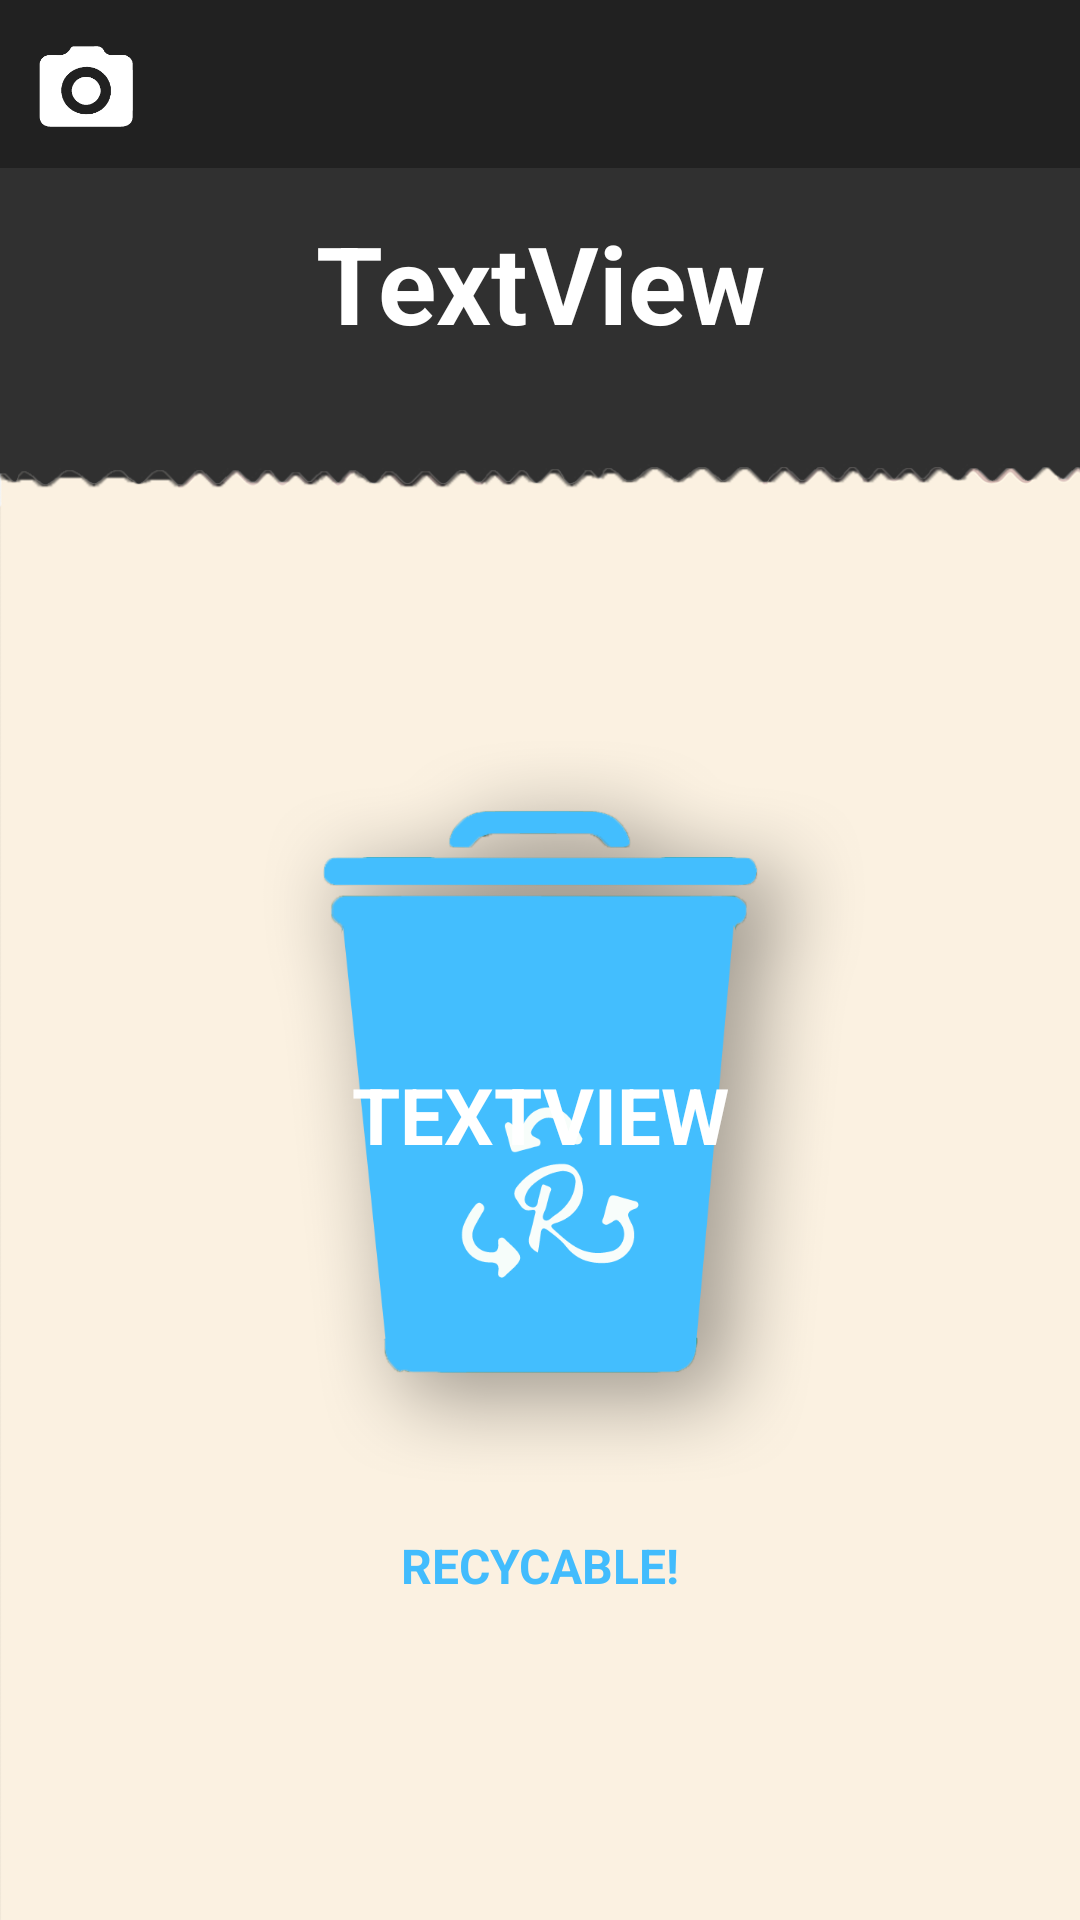

Locate icon controls on the screen. Image size 1080×1920, boxes as bbox(x1, y1, x2, y2).
camericon: bbox(39, 46, 133, 127)
